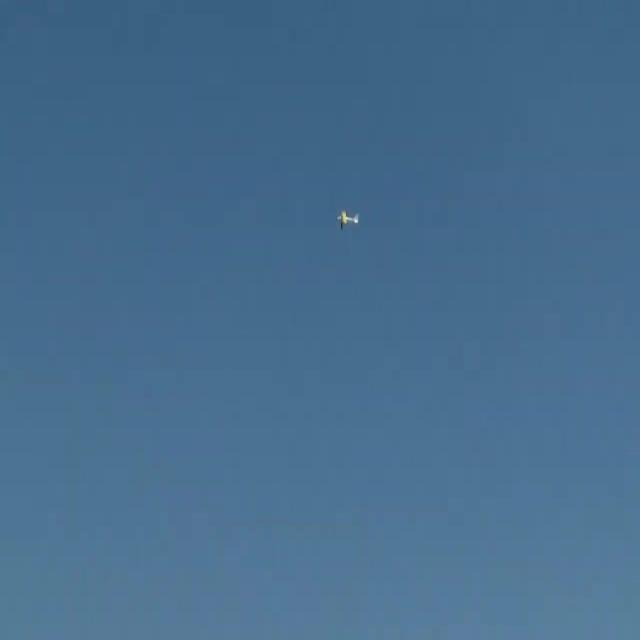iha: (335, 210, 360, 231)
